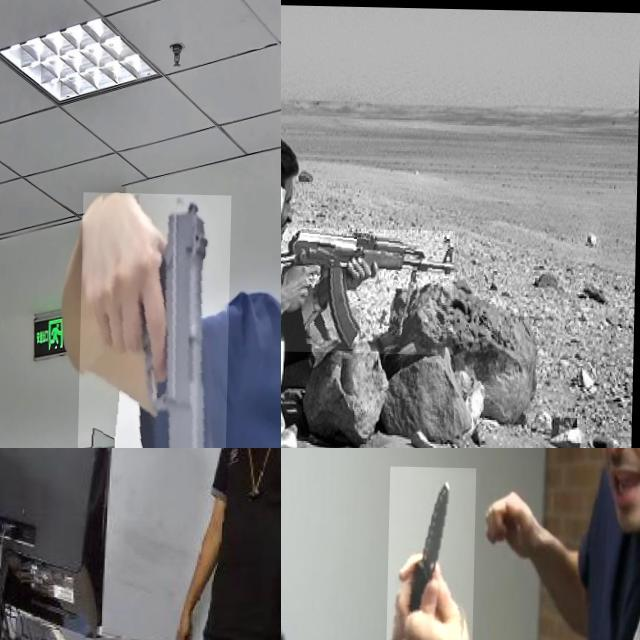-: (387, 464, 477, 640)
gun-knife-thesis - v11 Yolov5 augmented: (78, 191, 232, 448), (281, 225, 456, 353)
